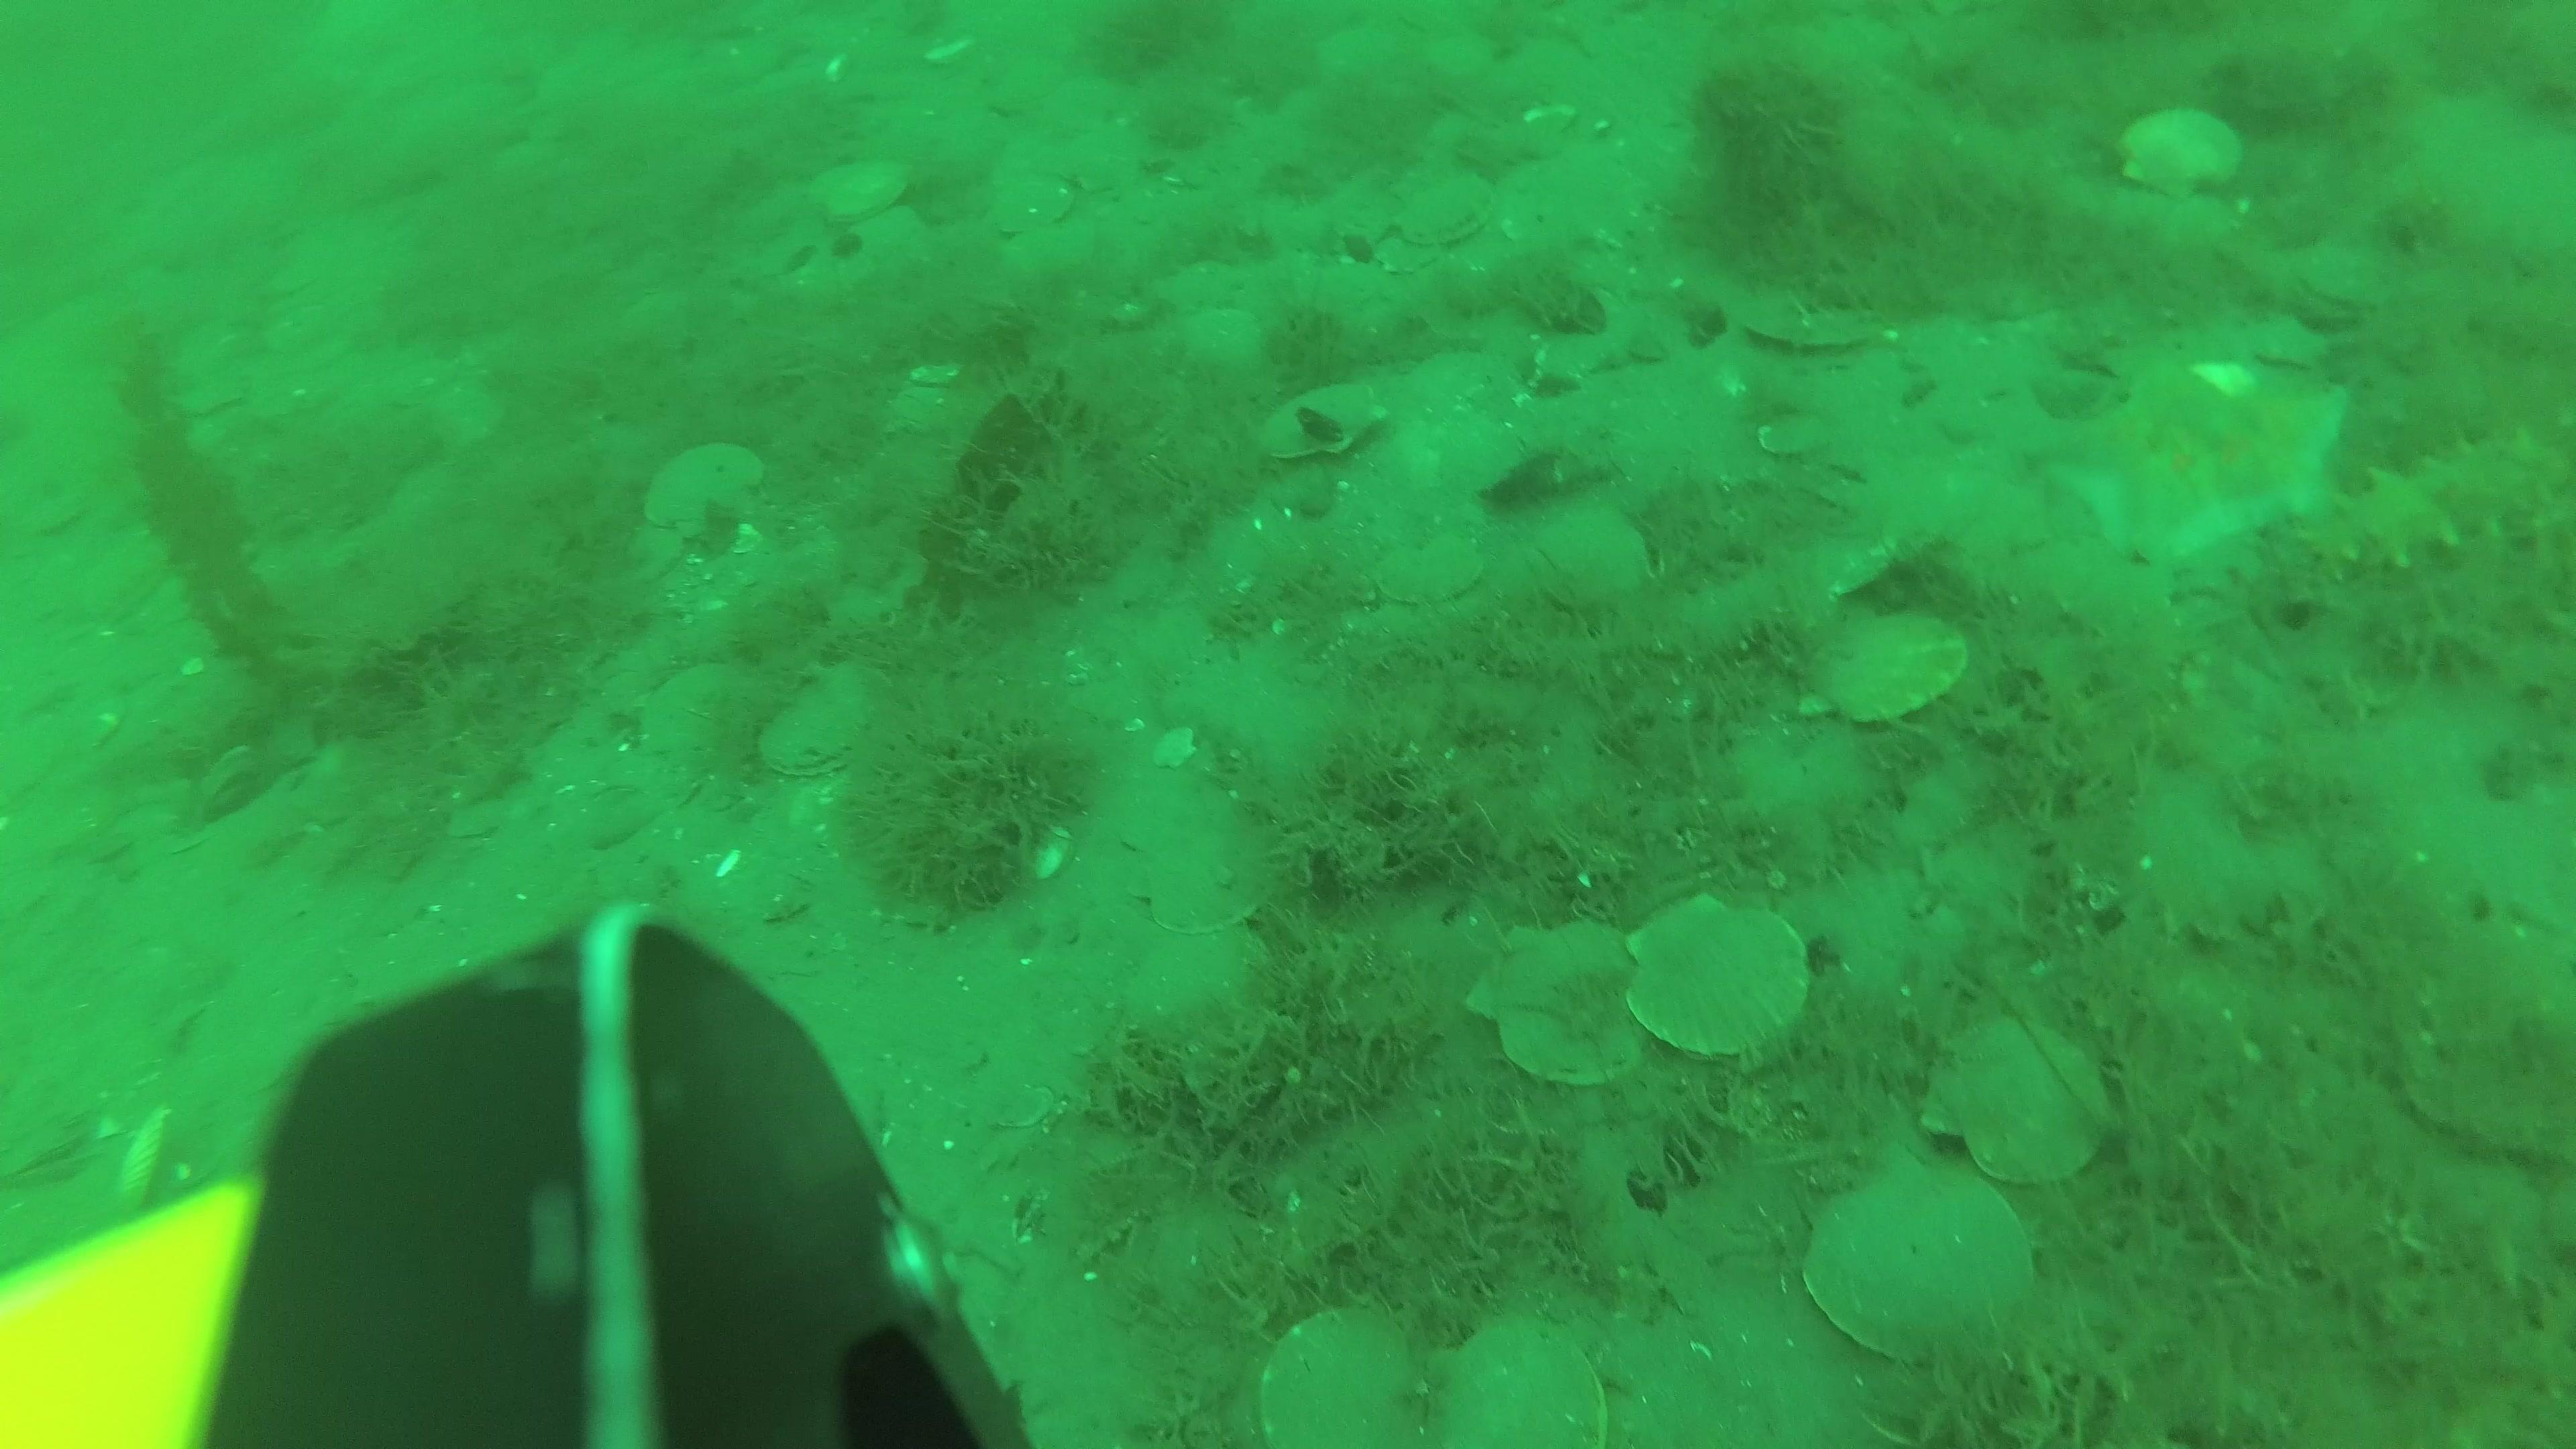holothurian: (2286, 410, 2574, 577)
scallop: (1819, 1162, 2045, 1368), (1913, 1024, 2123, 1196), (1474, 922, 1672, 1099), (1629, 890, 1808, 1058), (1263, 1313, 1426, 1449), (1438, 1316, 1603, 1449), (1821, 610, 1960, 734), (1122, 823, 1269, 934), (761, 669, 886, 787), (1509, 157, 1644, 265), (1532, 506, 1654, 621), (644, 453, 775, 557), (630, 669, 761, 768), (2121, 111, 2249, 205), (1269, 386, 1391, 479), (1364, 527, 1488, 616), (1739, 295, 1874, 364), (2295, 234, 2401, 317), (1391, 177, 1495, 248), (989, 168, 1085, 242), (805, 166, 915, 225), (1184, 304, 1263, 373)
starfish: (2059, 349, 2344, 593)
